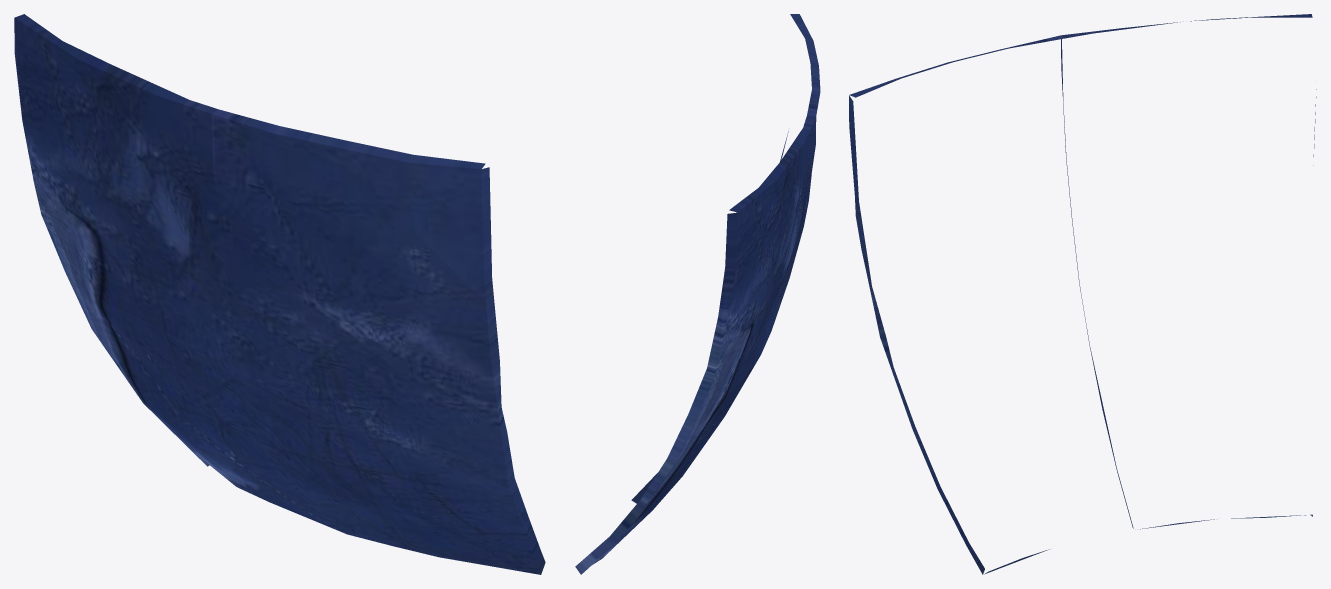
3 views of the same model, side by side, from view 1: azimuth 30°, elevation 25°; view 2: azimuth 150°, elevation 25°; view 3: azimuth 270°, elevation 25° (orthographic). The views are drawn at different scales.
Size of the model in its own units: 3239339 by 4556603 by 4550650.
1 material, 1 textured.
